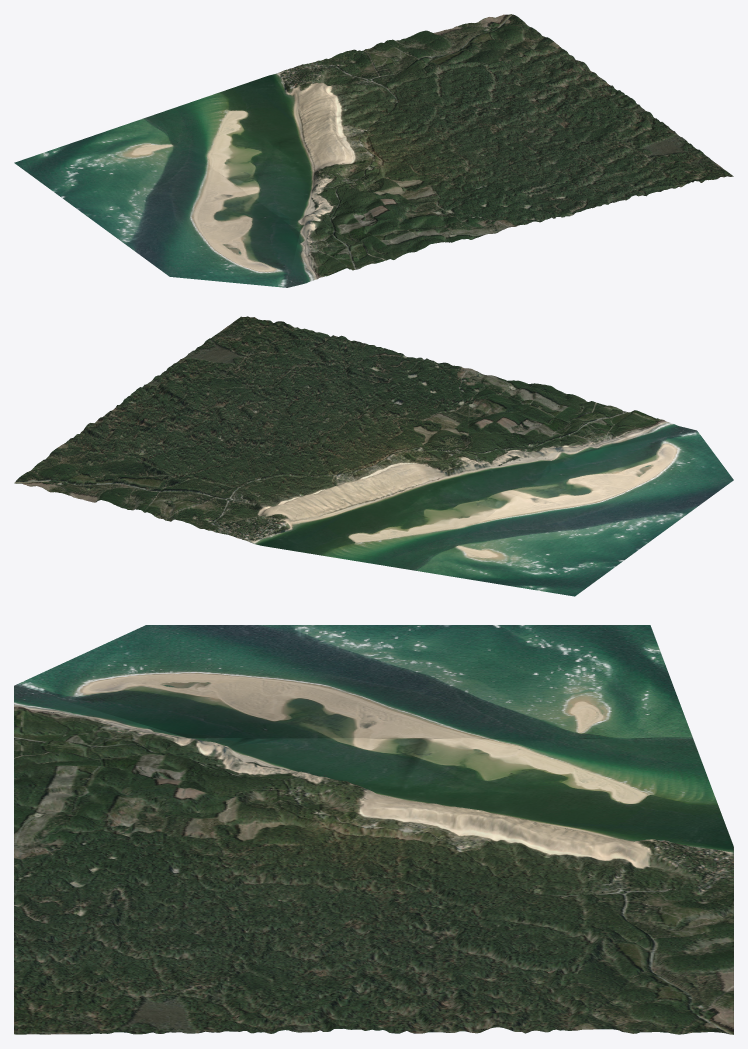
Rendered from dune_of_pilat__dune_du_pilat_eus_largest_dune.glb.
The picture shows the model from 3 angles, top to bottom: view 1: azimuth 30°, elevation 25°; view 2: azimuth 150°, elevation 25°; view 3: azimuth 270°, elevation 25°; orthographic projection. The views are drawn at different scales.
Visible parts, largest first — view 1: TerrainNode_0; view 2: TerrainNode_0; view 3: TerrainNode_0.
Boxes of the visible parts, left/top/right/bottom form: TerrainNode_0: left=14, top=14, right=733, bottom=287; TerrainNode_0: left=14, top=316, right=733, bottom=596; TerrainNode_0: left=14, top=625, right=733, bottom=1034.
Bounding box in the file's own units: 12214 × 263 × 8986.
1 material, 1 textured.
